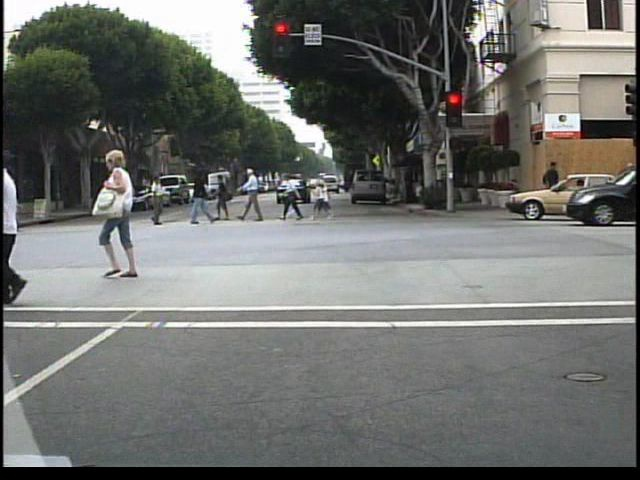person: (94, 150, 153, 281), (185, 167, 215, 228), (240, 166, 270, 224), (211, 172, 237, 224), (282, 170, 306, 224), (147, 170, 168, 227), (4, 182, 25, 235), (543, 156, 562, 212), (19, 194, 40, 239)
